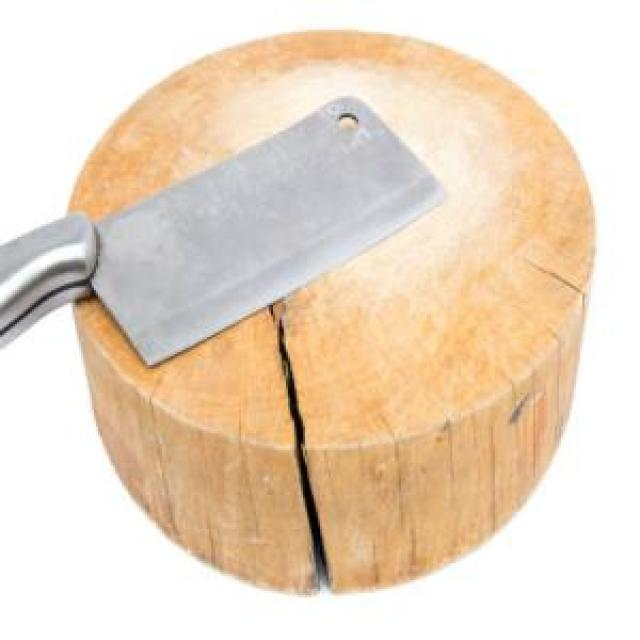knife: (0, 94, 449, 357)
